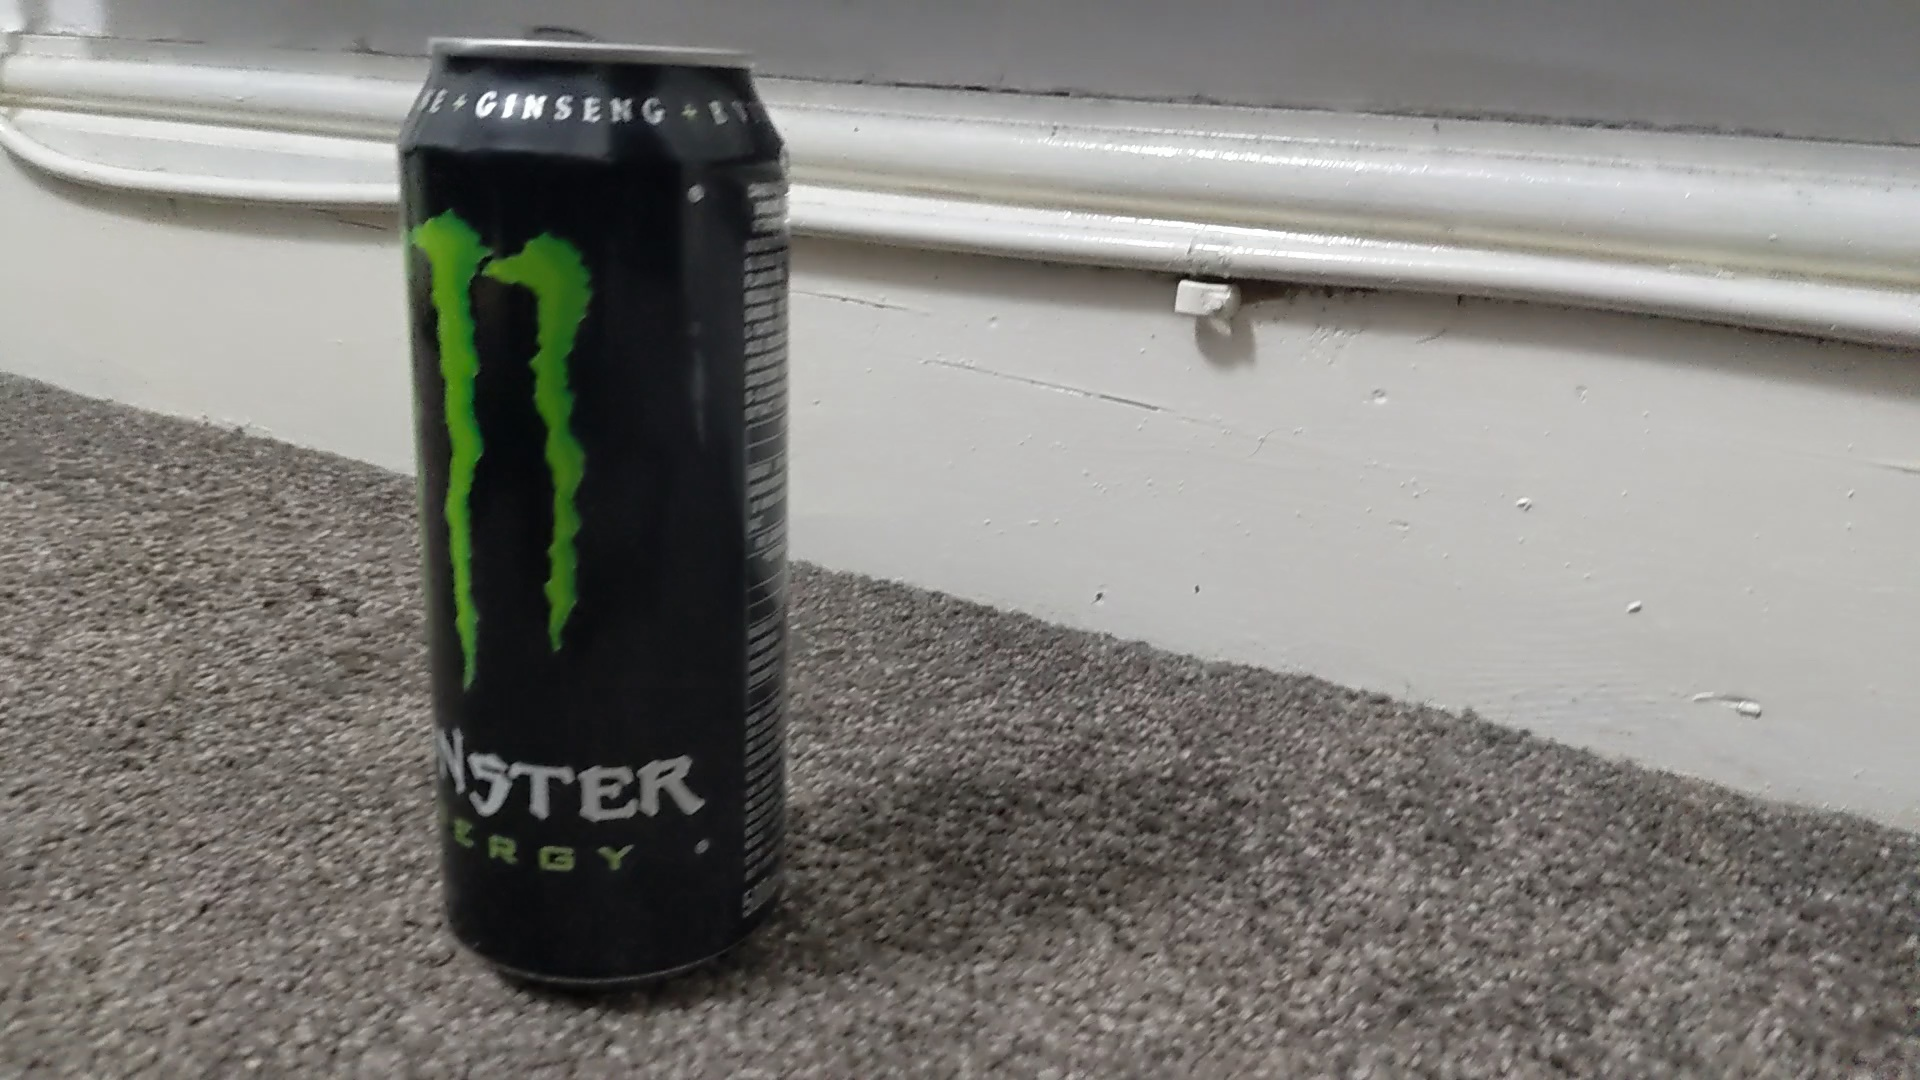monster-original: (398, 37, 789, 989)
